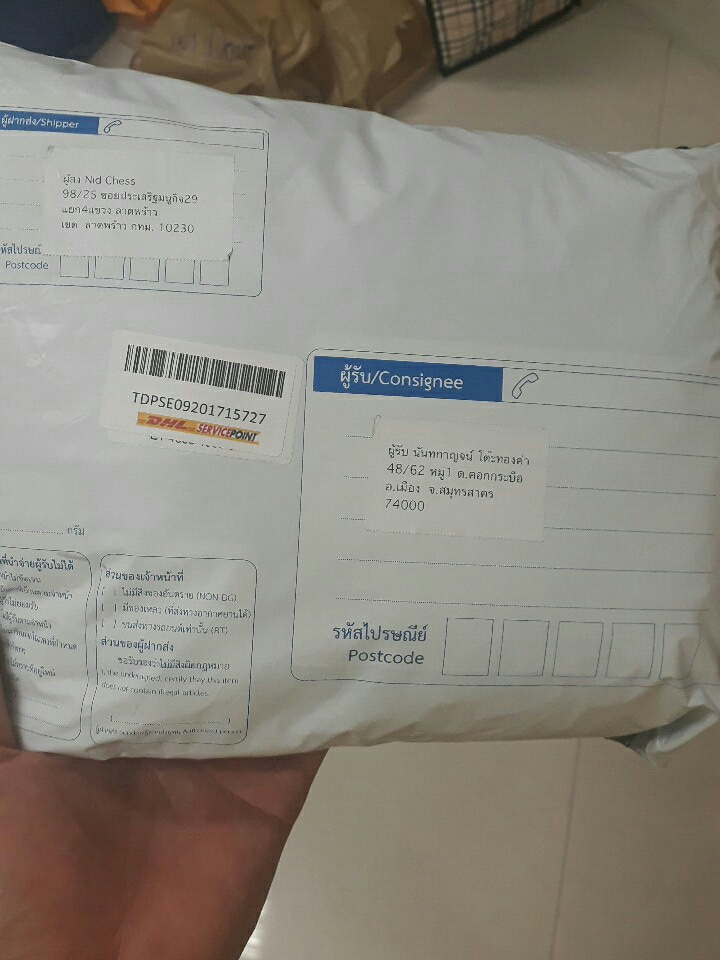ba: (96, 325, 304, 476)
txt: (380, 436, 537, 530)
